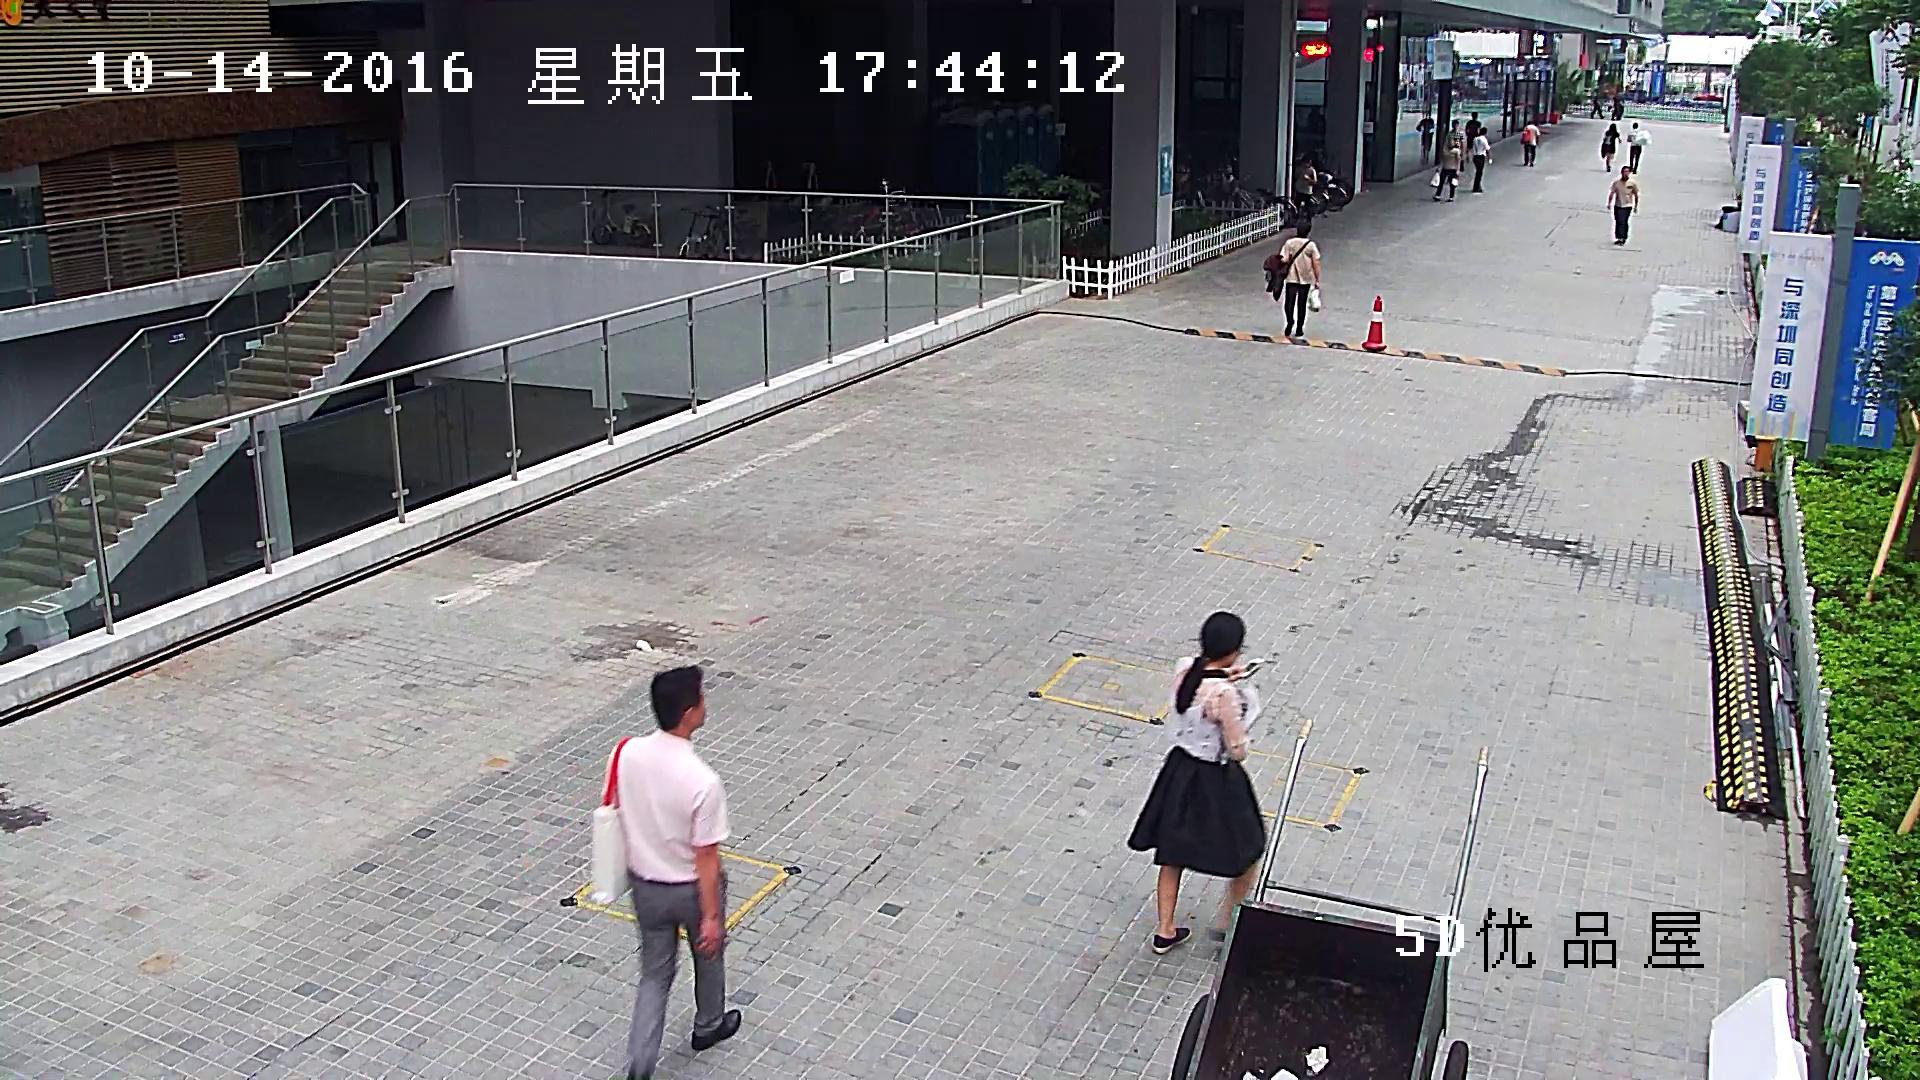person: (590, 665, 741, 1080), (1127, 612, 1267, 953), (1263, 215, 1320, 336), (1279, 215, 1320, 336), (1608, 165, 1637, 245), (1292, 154, 1316, 233), (1433, 140, 1458, 201), (1472, 127, 1492, 192), (1442, 119, 1464, 171), (1415, 111, 1433, 165), (1520, 119, 1540, 167), (1601, 123, 1621, 172), (1465, 111, 1481, 163), (1627, 122, 1641, 173), (1610, 89, 1624, 120), (1589, 87, 1604, 118)
